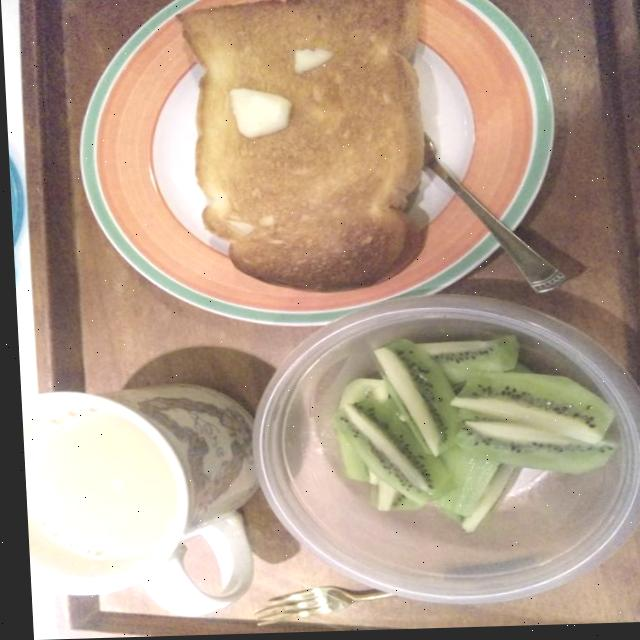面包点心: (55, 0, 554, 347)
